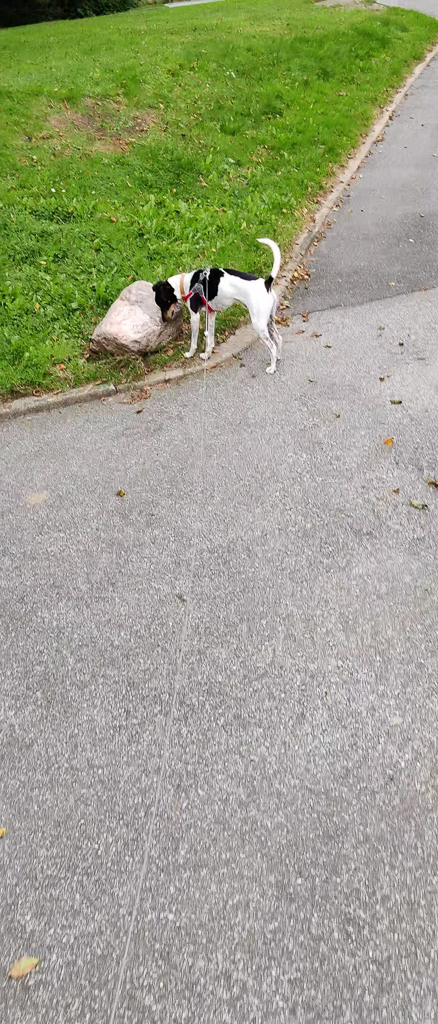Dog: (144, 231, 288, 379)
